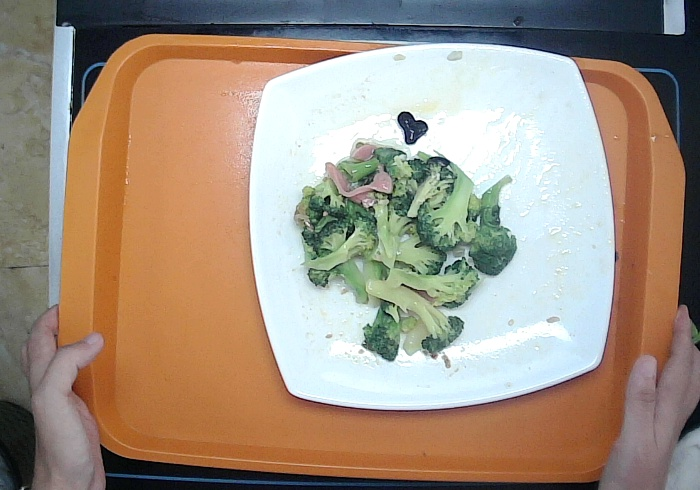ZNLD-Bai_Fang_Pan: (246, 39, 617, 411)
